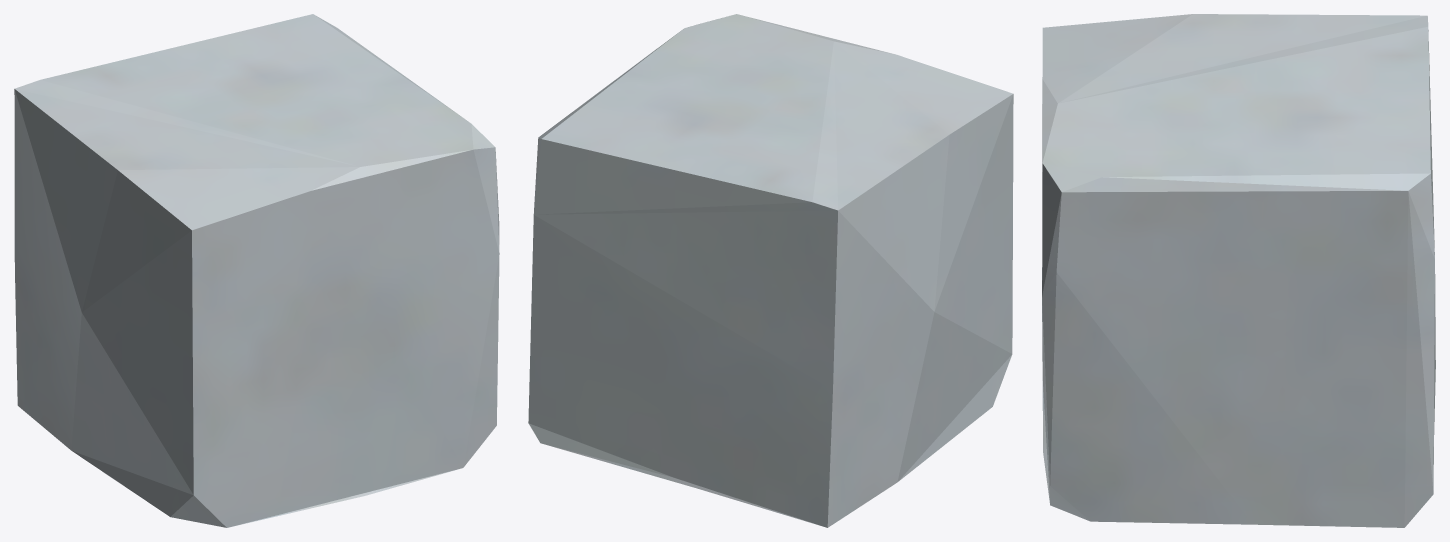
File: P_RockCubic_Metric_1x1.obj
3 views of the same model, side by side, from view 1: azimuth 30°, elevation 25°; view 2: azimuth 150°, elevation 25°; view 3: azimuth 270°, elevation 25° (orthographic). The views are drawn at different scales.
Bounding box in the file's own units: 2.09 × 1.97 × 2.
